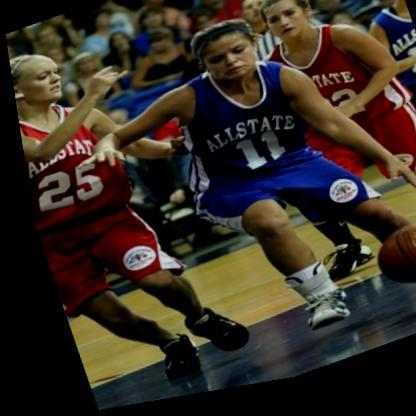basketball: (358, 220, 416, 307)
